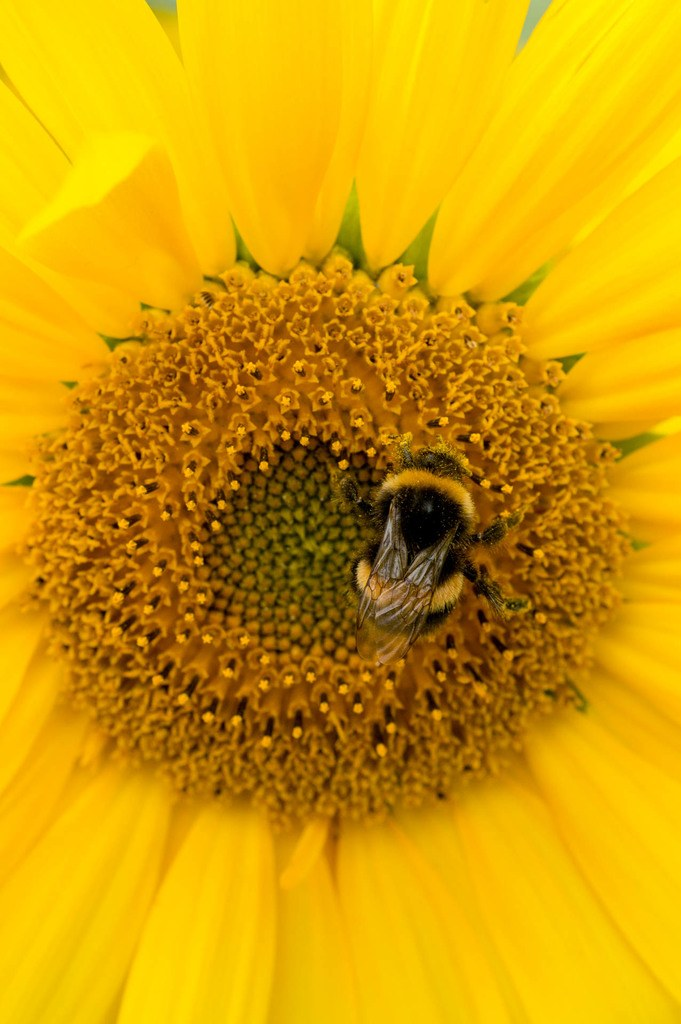bee: (346, 432, 493, 665)
insect: (0, 0, 680, 1023)
